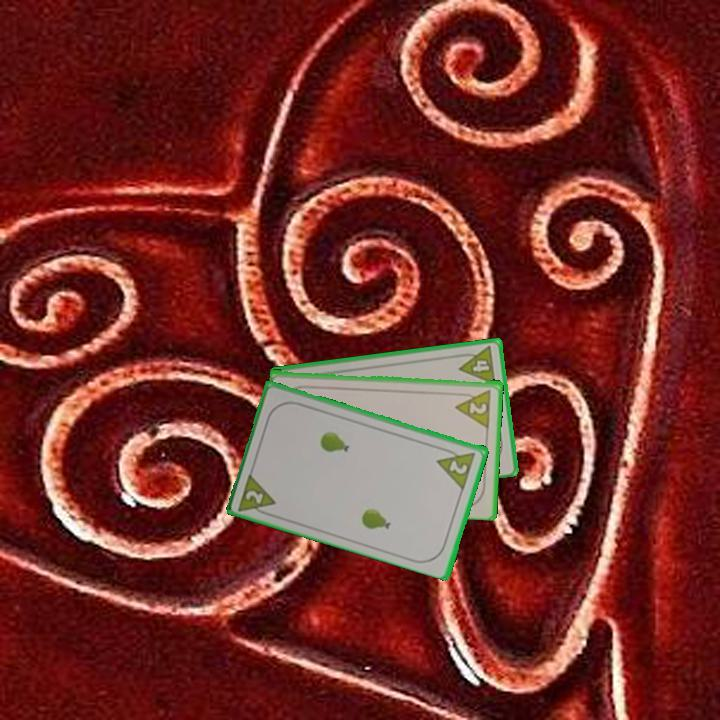2p: (235, 469, 279, 520), (452, 386, 494, 429), (446, 456, 471, 477)
4p: (454, 343, 498, 387)
